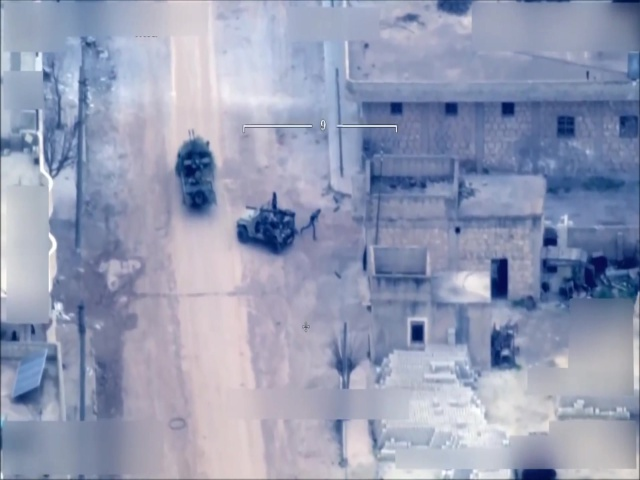person: (299, 204, 322, 242)
vehicle: (234, 196, 298, 254), (173, 134, 220, 212)
